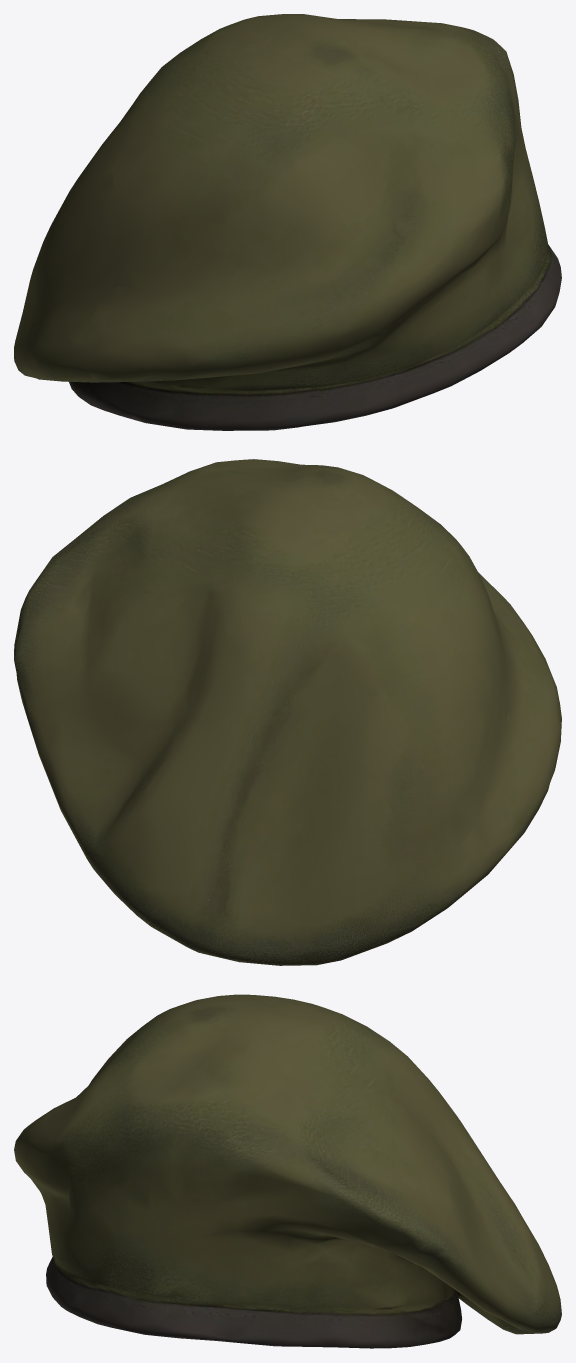
Rendered from beret.glb.
3 renders of one model, top to bottom at view 1: azimuth 30°, elevation 25°; view 2: azimuth 150°, elevation 25°; view 3: azimuth 270°, elevation 25°, orthographic. The views are drawn at different scales.
Visible parts, largest first — view 1: beret; view 2: beret; view 3: beret.
Part boxes in pixels (x1,y1,x2,y2): beret: (14,14,561,430); beret: (14,459,561,965); beret: (14,994,561,1348).
Size of the model in its own units: 0.2674 by 0.2063 by 0.29.
Materials: 1 (1 with a texture image).
